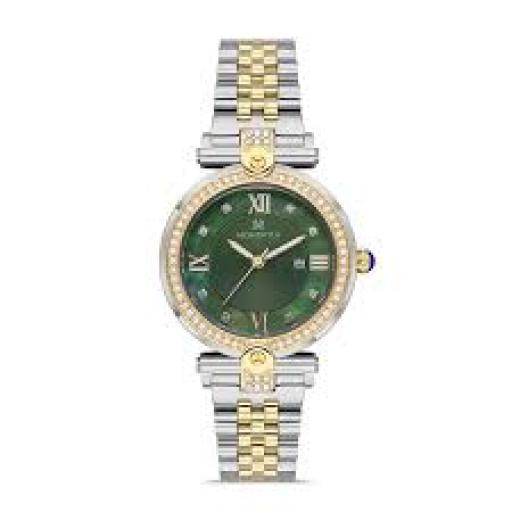KolSaati: (154, 26, 383, 486)
